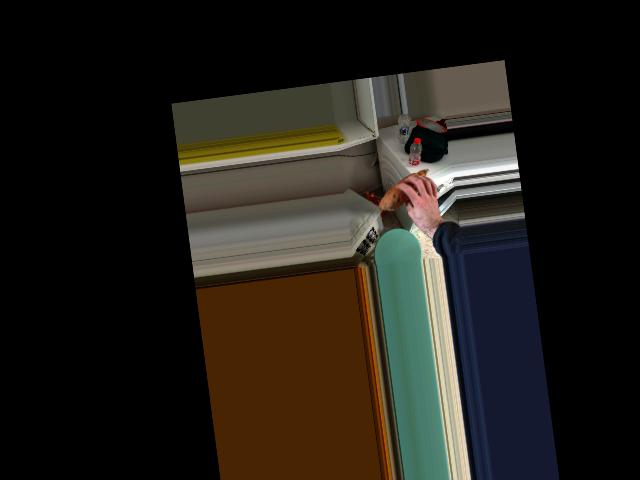sweet_potato: (377, 170, 435, 212)
